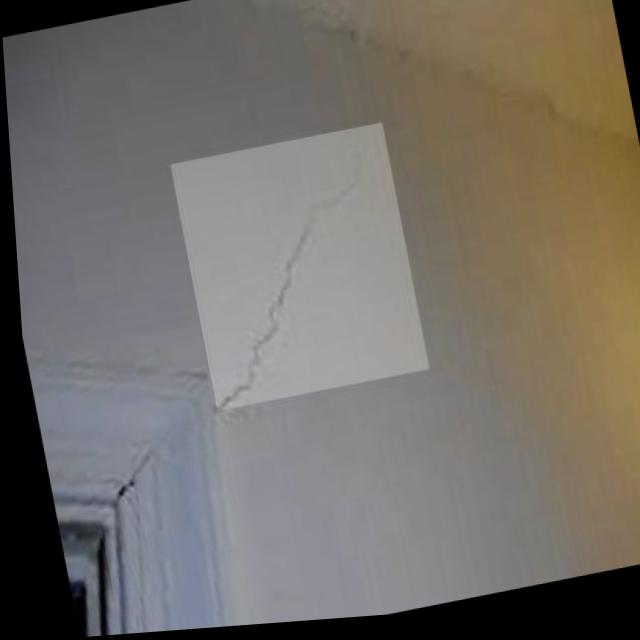Crack: (160, 104, 456, 438)
